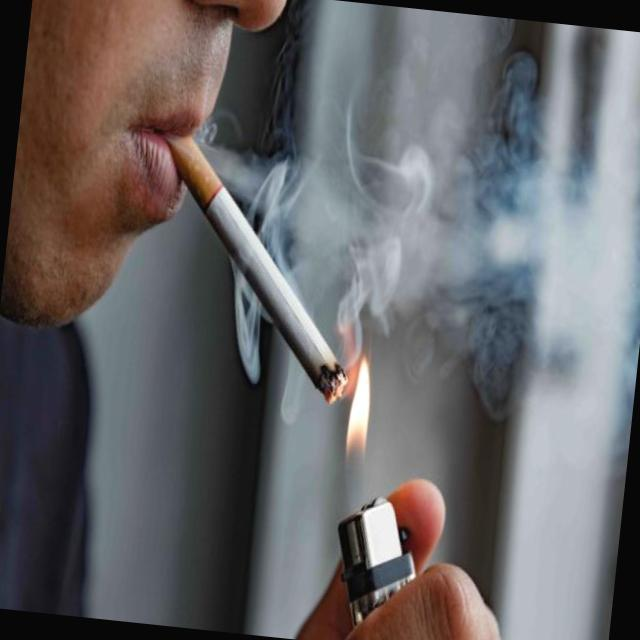cigarette: (136, 120, 374, 405)
